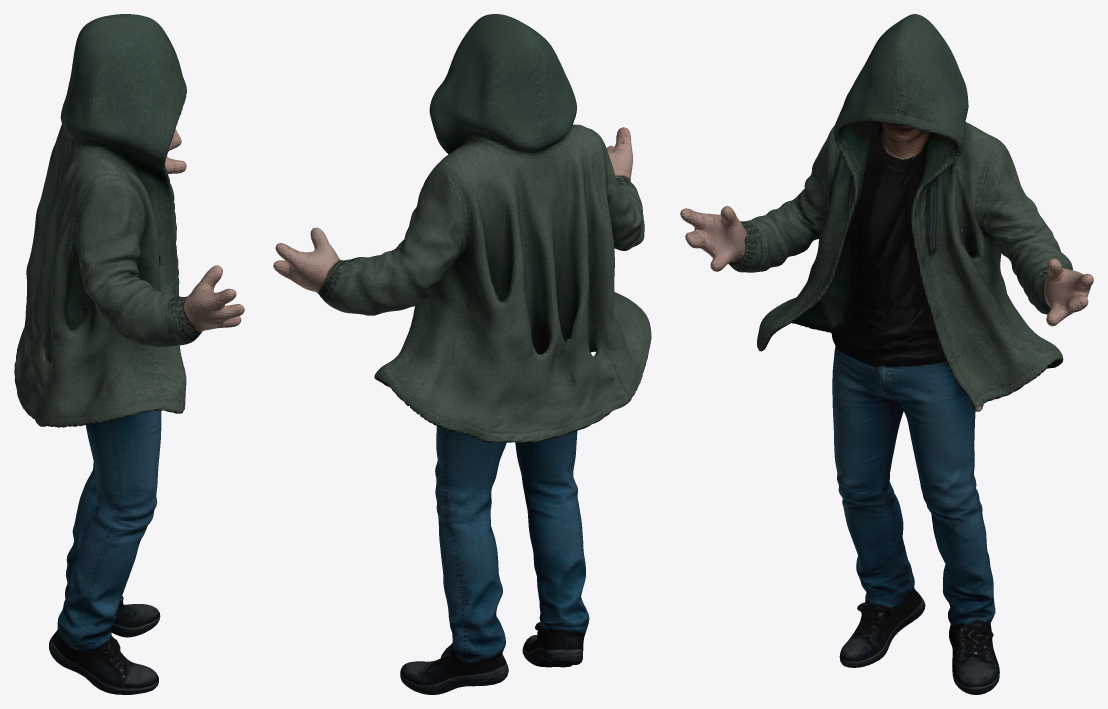
The model's file is Abdullah.glb.
3 renders of one model, left to right at view 1: azimuth 30°, elevation 25°; view 2: azimuth 150°, elevation 25°; view 3: azimuth 270°, elevation 25°, orthographic.
Parts seen in each view (by area): view 1: tripo_node_384ec0d7-45d4-4dbb-b6a4-48f566264f22; view 2: tripo_node_384ec0d7-45d4-4dbb-b6a4-48f566264f22; view 3: tripo_node_384ec0d7-45d4-4dbb-b6a4-48f566264f22.
Boxes of the visible parts, x1,y1,x2,y2 form: tripo_node_384ec0d7-45d4-4dbb-b6a4-48f566264f22: (14,14,244,694); tripo_node_384ec0d7-45d4-4dbb-b6a4-48f566264f22: (273,14,651,694); tripo_node_384ec0d7-45d4-4dbb-b6a4-48f566264f22: (680,14,1093,694).
Size of the model in its own units: 0.3942 by 1 by 0.5814.
Materials: 1 (1 with a texture image).
